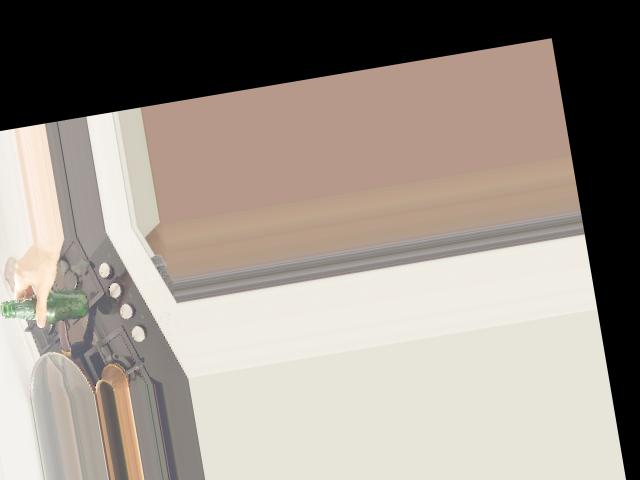beer: (0, 287, 91, 330)
